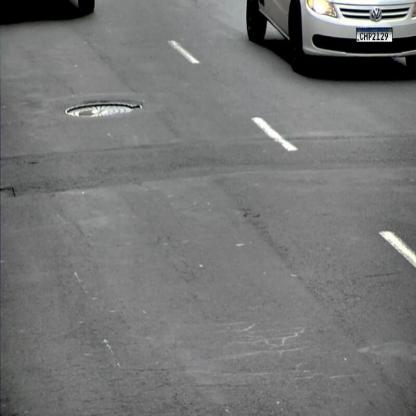PlacaM: (356, 28, 393, 42)
